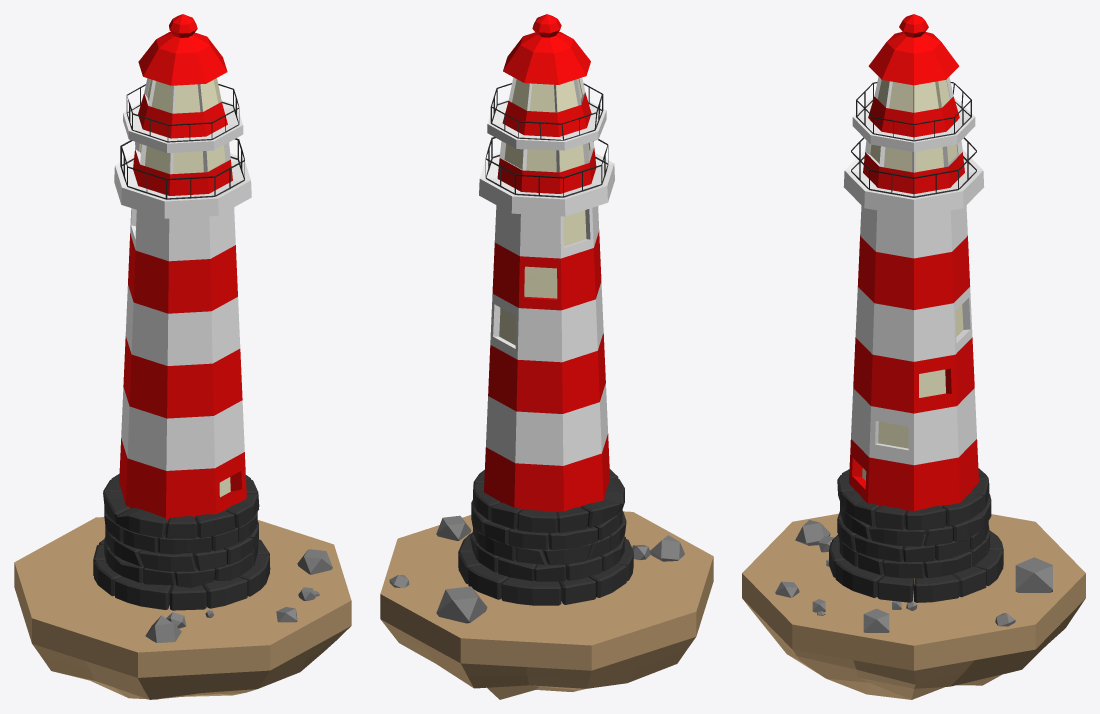
The model's file is lighthouse.obj.
3 renders of one model, left to right at view 1: azimuth 30°, elevation 25°; view 2: azimuth 150°, elevation 25°; view 3: azimuth 270°, elevation 25°, orthographic.
Parts seen in each view (by area): view 1: Cylinder_Cylinder_001, Circle_001_Circle_003, Circle_Circle_002, Cube_007_Cube_009, Cube_004, Cube_002, Cube_001, Cube_003, Cylinder_001_Cylinder_002, Cylinder_002_Cylinder_003, Cube, Cube_012; view 2: Cylinder_Cylinder_001, Circle_001_Circle_003, Circle_Circle_002, Cube_007_Cube_009, Cube_004, Cube_001, Cube_003, Cube_002, Cube_015, Cylinder_001_Cylinder_002, Cylinder_002_Cylinder_003, Cube (+1 smaller); view 3: Cylinder_Cylinder_001, Circle_001_Circle_003, Circle_Circle_002, Cube_007_Cube_009, Cube_004, Cube_003, Cube_001, Cube_002, Cube_015, Cylinder_001_Cylinder_002, Cylinder_002_Cylinder_003, Cube_012 (+1 smaller).
Boxes of the visible parts, bbox=[...] form: Cylinder_Cylinder_001: bbox=[114, 14, 251, 523]; Circle_001_Circle_003: bbox=[14, 517, 351, 677]; Circle_Circle_002: bbox=[32, 626, 350, 699]; Cube_007_Cube_009: bbox=[93, 539, 269, 610]; Cube_004: bbox=[103, 473, 259, 538]; Cube_002: bbox=[105, 521, 258, 571]; Cube_001: bbox=[104, 537, 258, 587]; Cube_003: bbox=[104, 507, 257, 554]; Cylinder_001_Cylinder_002: bbox=[120, 138, 244, 199]; Cylinder_002_Cylinder_003: bbox=[126, 84, 239, 142]; Cube: bbox=[297, 549, 332, 574]; Cube_012: bbox=[145, 615, 181, 642]; Cylinder_Cylinder_001: bbox=[479, 14, 614, 512]; Circle_001_Circle_003: bbox=[380, 511, 713, 670]; Circle_Circle_002: bbox=[381, 619, 695, 699]; Cube_007_Cube_009: bbox=[458, 533, 633, 605]; Cube_004: bbox=[473, 469, 624, 532]; Cube_001: bbox=[470, 532, 624, 581]; Cube_003: bbox=[471, 500, 622, 549]; Cube_002: bbox=[473, 511, 626, 564]; Cube_015: bbox=[436, 586, 487, 623]; Cylinder_001_Cylinder_002: bbox=[485, 137, 608, 197]; Cylinder_002_Cylinder_003: bbox=[490, 83, 603, 140]; Cube: bbox=[436, 515, 471, 540]; Cylinder_Cylinder_001: bbox=[843, 14, 984, 513]; Circle_001_Circle_003: bbox=[742, 513, 1085, 670]; Circle_Circle_002: bbox=[743, 599, 1084, 699]; Cube_007_Cube_009: bbox=[829, 530, 1003, 602]; Cube_004: bbox=[837, 468, 989, 530]; Cube_003: bbox=[840, 494, 991, 546]; Cube_001: bbox=[839, 525, 989, 578]; Cube_002: bbox=[837, 511, 988, 562]; Cube_015: bbox=[1015, 557, 1052, 592]; Cylinder_001_Cylinder_002: bbox=[851, 137, 976, 197]; Cylinder_002_Cylinder_003: bbox=[856, 82, 971, 141]; Cube_012: bbox=[795, 520, 830, 545].
Bounding box in the file's own units: 42.52 × 88.3 × 42.52.
Materials: 6 (5 with a texture image).
